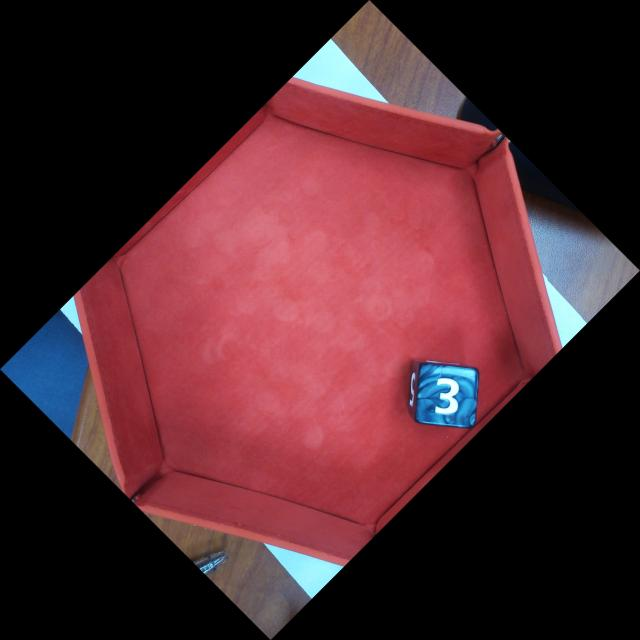dice: (414, 361, 481, 429)
